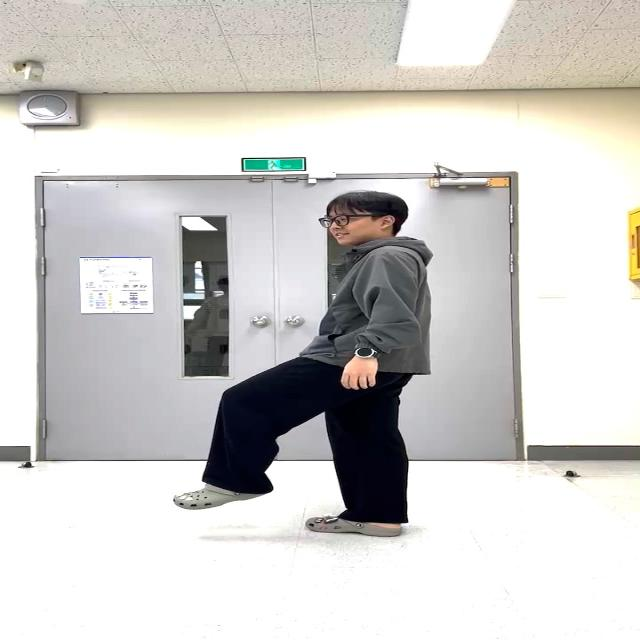leg: (187, 350, 330, 514)
